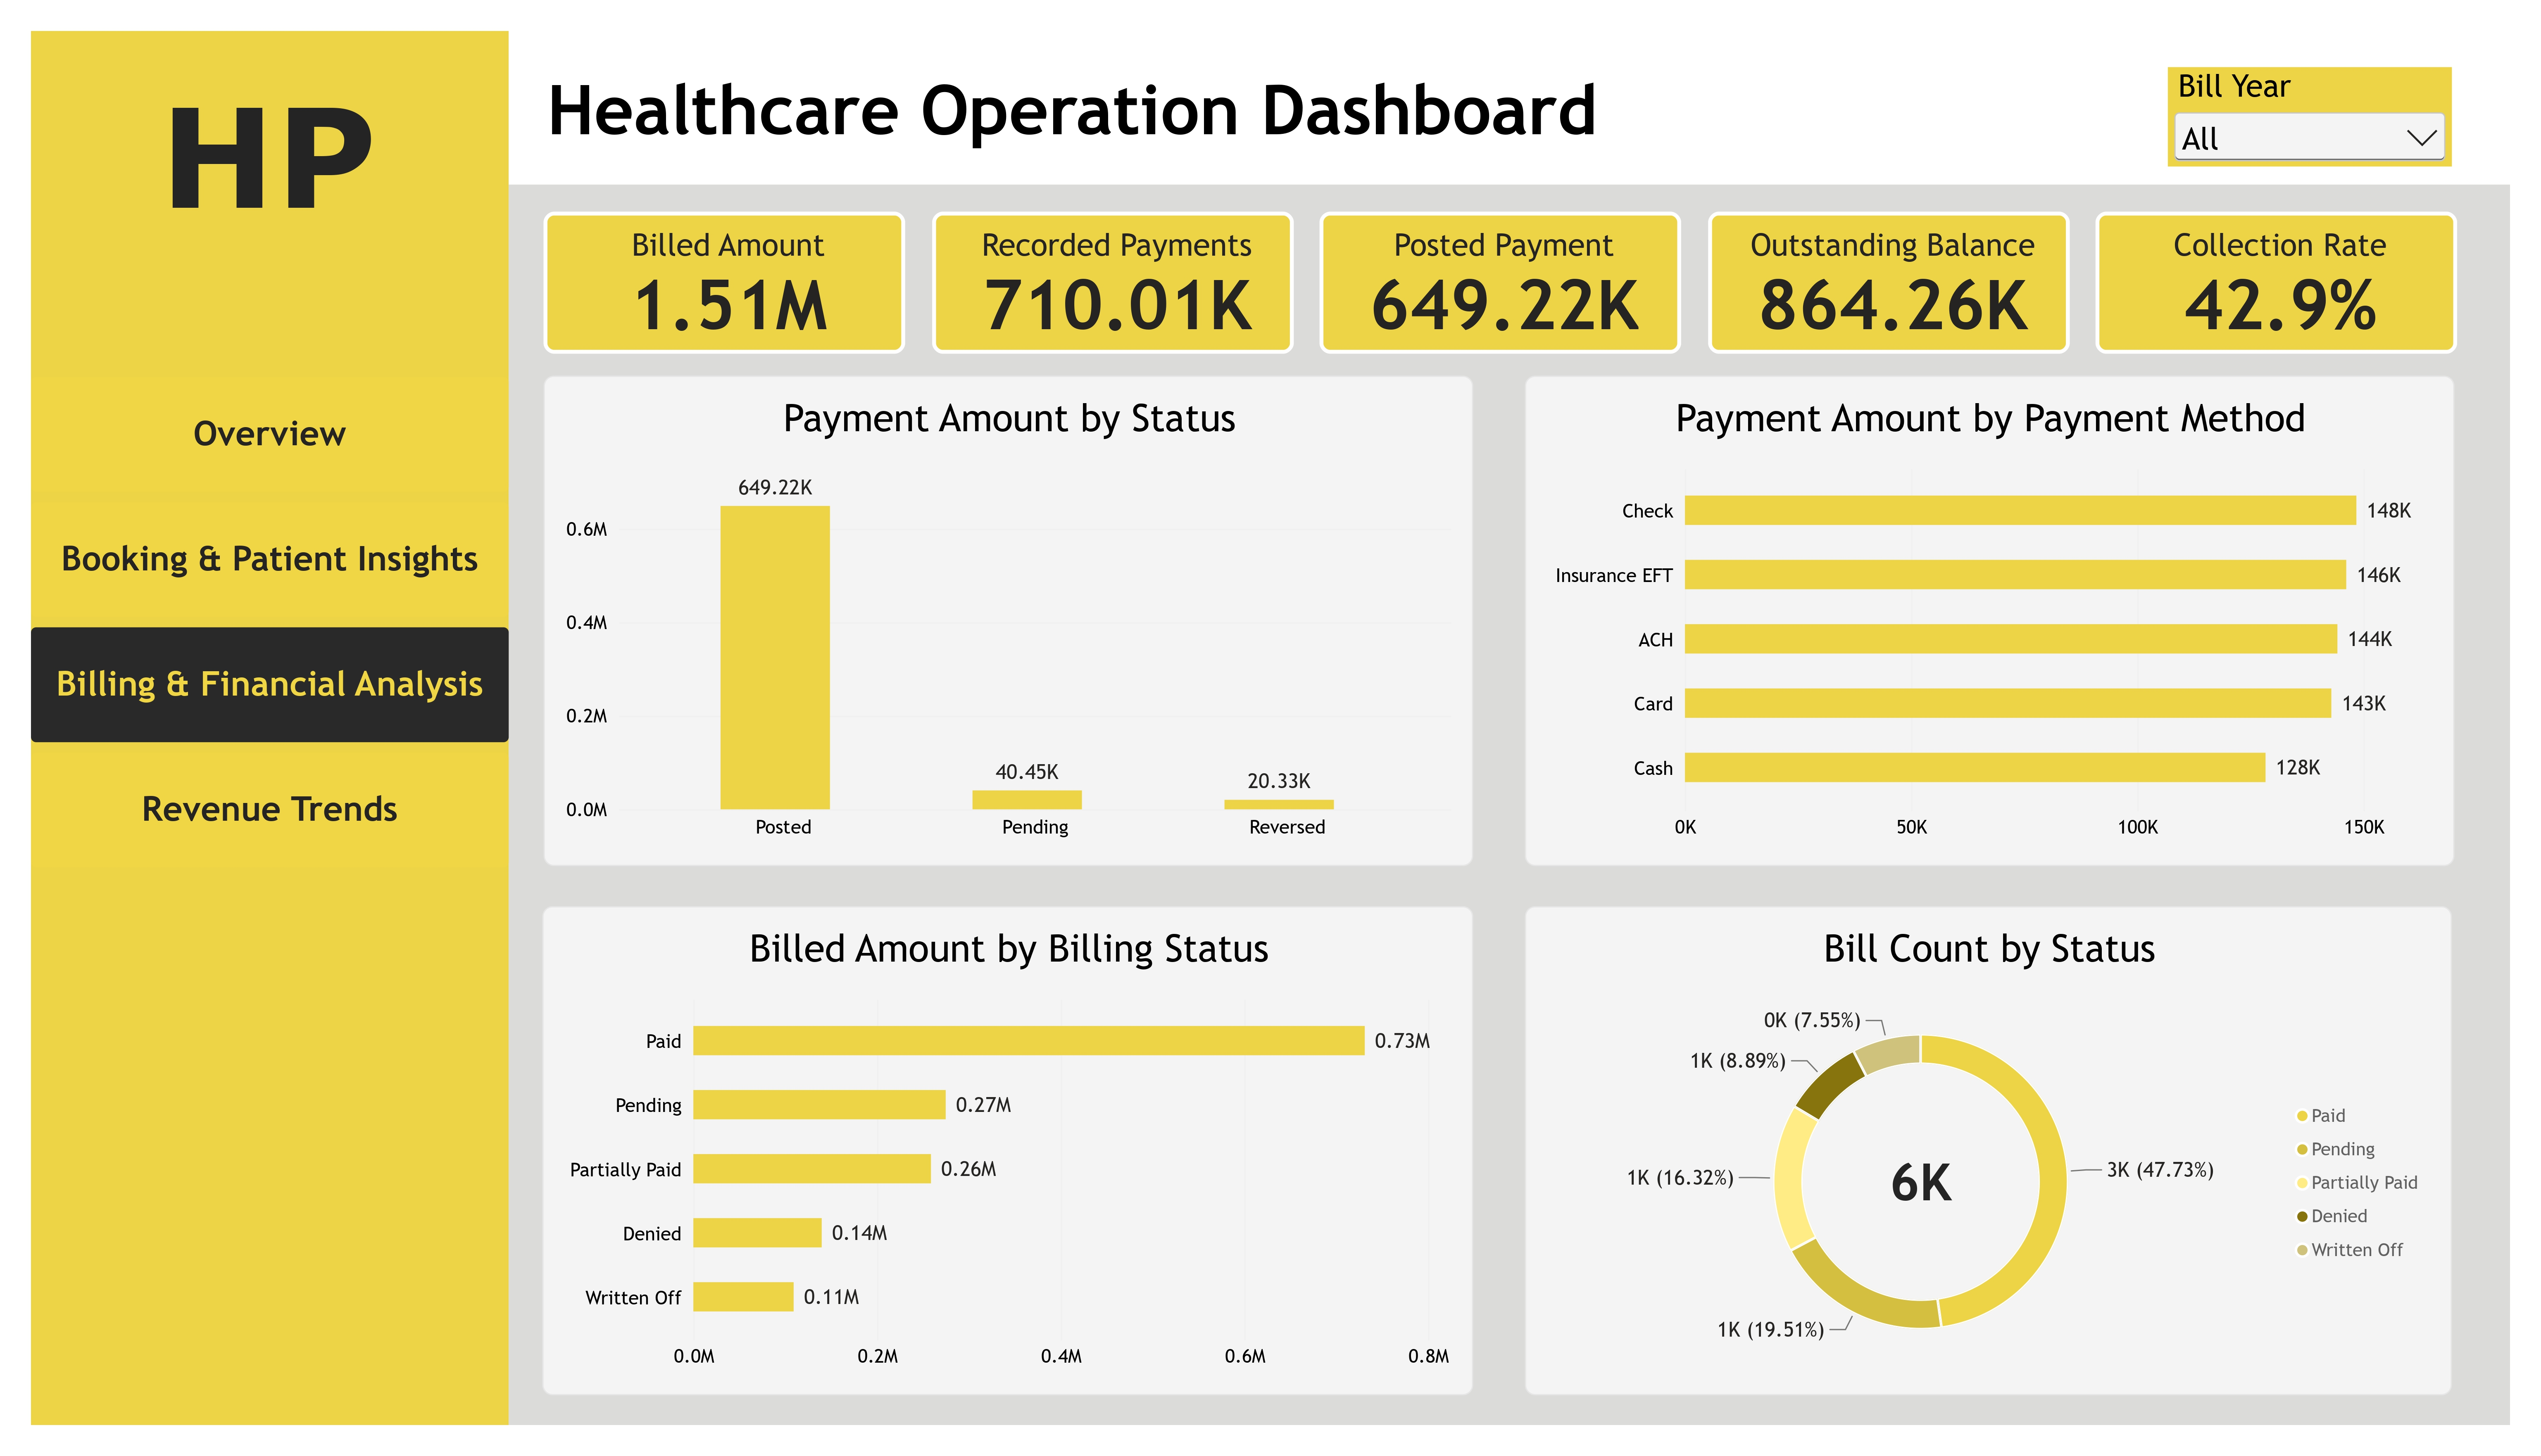

The page's visual inventory and layout, read from the dashboard file:
{"tool":"powerbi","page":{"name":"Billing & Financial Analysis","canvas":[1920,1080],"ordinal":2},"visuals":[{"type":"shape","box":[0,0,369.8,1080],"z":0},{"type":"shape","box":[369.8,0,1550.8,1080.8],"z":1000},{"type":"shape","box":[369.8,0,1550.8,119.3],"z":2000},{"type":"textbox","box":[100,30,175,132.5],"z":3000},{"type":"cardVisual","fields":{"Data":["healthcare_ops billing.Total Billed Amount"]},"box":[396.9,140,280,110],"z":4000},{"type":"cardVisual","fields":{"Data":["healthcare_ops payments.Total Payment Amount"]},"box":[697.5,140,280,110],"z":5000},{"type":"cardVisual","fields":{"Data":["healthcare_ops payments.Posted Payment Amount"]},"box":[998.1,140,280,110],"z":6000},{"type":"cardVisual","fields":{"Data":["healthcare_ops billing.Outstanding Balance"]},"box":[1298.8,140,280,110],"z":7000},{"type":"cardVisual","fields":{"Data":["healthcare_ops billing.Payment Collection Rate"]},"box":[1599.4,140,280,110],"z":8000},{"type":"clusteredColumnChart","title":"Payment Amount by Status","fields":{"Category":["healthcare_ops payments.payment_status"],"Y":["healthcare_ops payments.Total Payment Amount"]},"box":[397,267,720,380],"z":10000},{"type":"clusteredBarChart","title":"\tPayment Amount by Payment Method","fields":{"Category":["healthcare_ops payments.payment_method"],"Y":["healthcare_ops payments.Total Payment Amount"]},"box":[1157.2,267.2,720,380],"z":11000},{"type":"clusteredBarChart","title":"Billed Amount by Billing Status","fields":{"Category":["healthcare_ops billing.billing_status"],"Y":["healthcare_ops billing.Total Billed Amount"]},"box":[396.1,677.6,720.5,379.4],"z":12000},{"type":"donutChart","title":"Bill Count by Status","fields":{"Category":["healthcare_ops billing.billing_status"],"Y":["healthcare_ops billing.Total Bills"]},"box":[1157.2,677.6,718.2,379.4],"z":13000},{"type":"slicer","fields":{"Values":["healthcare_ops billing.Bill Year"]},"box":[1655,27.5,220,77.5],"z":14000},{"type":"textbox","box":[370,30,872.5,62.5],"z":15000},{"type":"pageNavigator","box":[0,267.5,370,380],"z":15001}]}

Visuals, with their boxes on the page's 1920x1080 design canvas (x1, y1, x2, y2). These are canvas units, not pixel positions in the 2541x1456 screenshot, which may show the page scaled, cropped or inside an application window:
shape: crop(0, 0, 370, 1080)
shape: crop(370, 0, 1921, 1081)
shape: crop(370, 0, 1921, 119)
textbox: crop(100, 30, 275, 162)
cardVisual - healthcare_ops billing.Total Billed Amount: crop(397, 140, 677, 250)
cardVisual - healthcare_ops payments.Total Payment Amount: crop(698, 140, 978, 250)
cardVisual - healthcare_ops payments.Posted Payment Amount: crop(998, 140, 1278, 250)
cardVisual - healthcare_ops billing.Outstanding Balance: crop(1299, 140, 1579, 250)
cardVisual - healthcare_ops billing.Payment Collection Rate: crop(1599, 140, 1879, 250)
"Payment Amount by Status" clusteredColumnChart: crop(397, 267, 1117, 647)
"	Payment Amount by Payment Method" clusteredBarChart: crop(1157, 267, 1877, 647)
"Billed Amount by Billing Status" clusteredBarChart: crop(396, 678, 1117, 1057)
"Bill Count by Status" donutChart: crop(1157, 678, 1875, 1057)
slicer - healthcare_ops billing.Bill Year: crop(1655, 28, 1875, 105)
textbox: crop(370, 30, 1242, 92)
pageNavigator: crop(0, 268, 370, 648)
